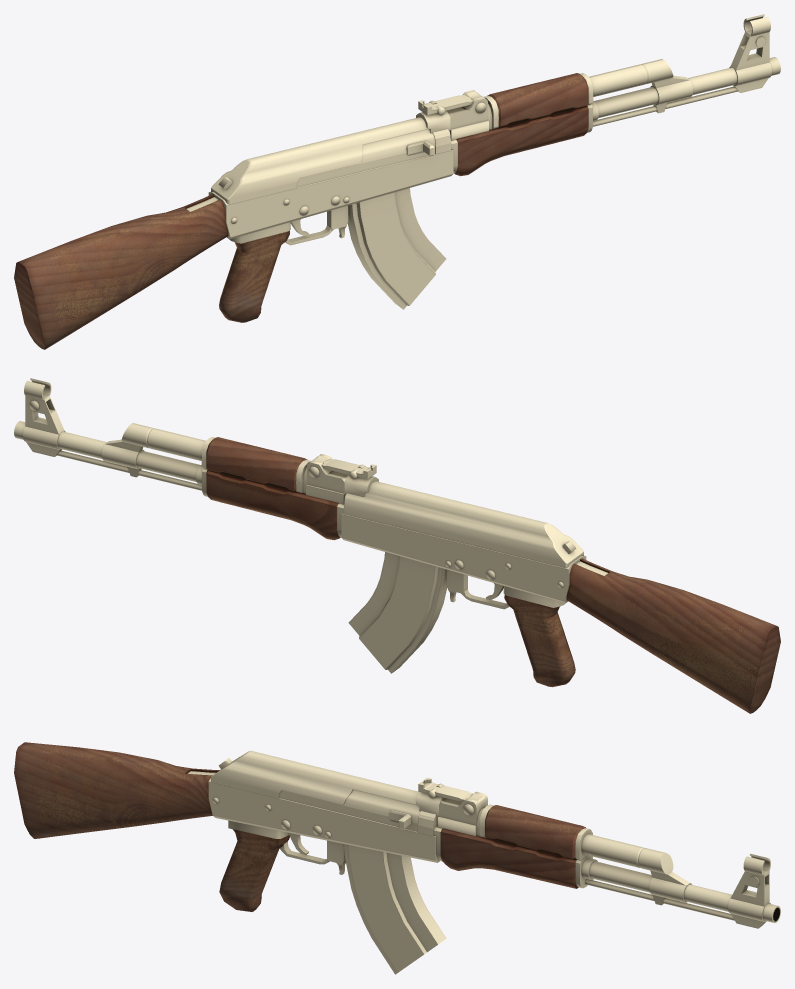
The model's file is weapon_2_12.gltf.
The picture shows the model from 3 angles, top to bottom: view 1: azimuth 30°, elevation 25°; view 2: azimuth 150°, elevation 25°; view 3: azimuth 330°, elevation 25°; orthographic projection.
Visible parts, largest first — view 1: Cube.002; view 2: Cube.002; view 3: Cube.002.
Boxes of the visible parts, x1=… form: Cube.002: x1=14, y1=14, x2=780, y2=349; Cube.002: x1=14, y1=378, x2=780, y2=713; Cube.002: x1=14, y1=742, x2=780, y2=974.
Bounding box in the file's own units: 9950 × 2542 × 572.
1 material, 1 textured.
